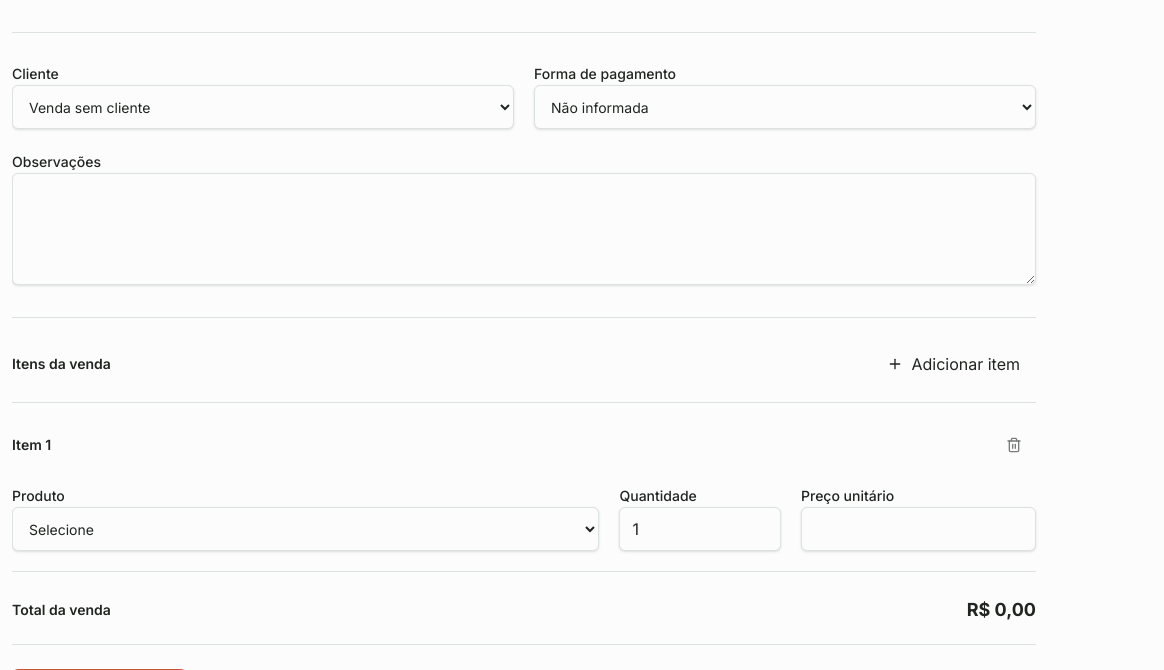
Test: CreateSaleForm › suggests the registered price and calculates the cart total
The image size is (1164, 670).
Select "PERF-1 · Perfume Floral" in the dropdown named "Produto do item 1" at [306, 529], box [12,507,600,551]
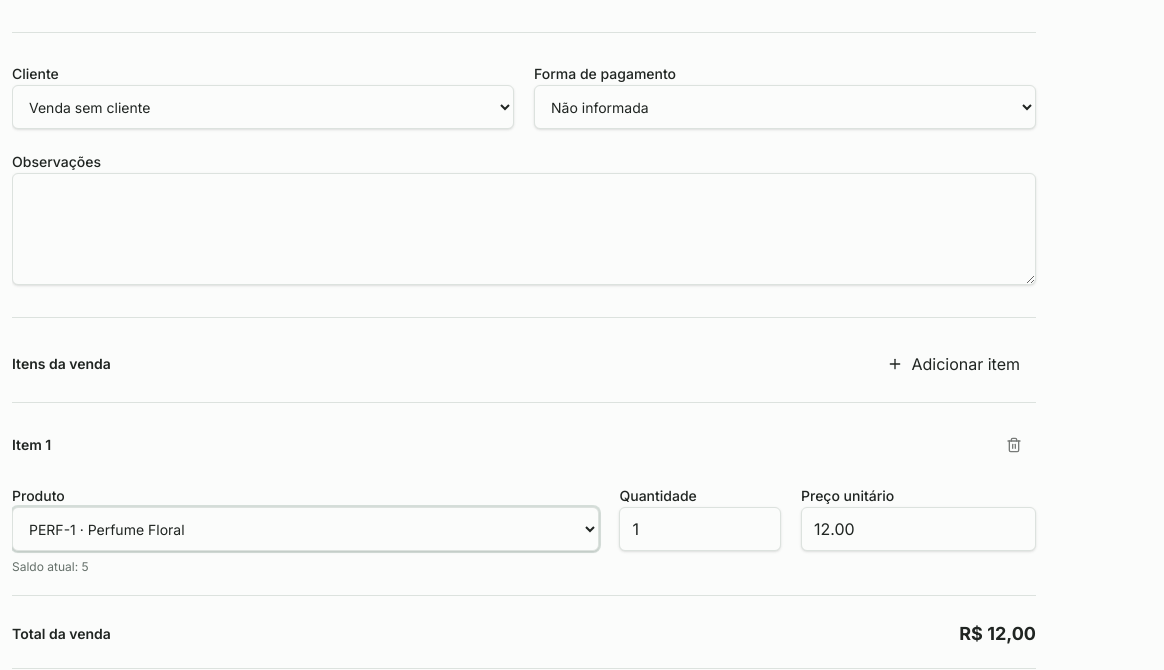
Replace the text in the number field named "Quantidade do item 1" with "2" at [700, 529], box [620,507,781,551]
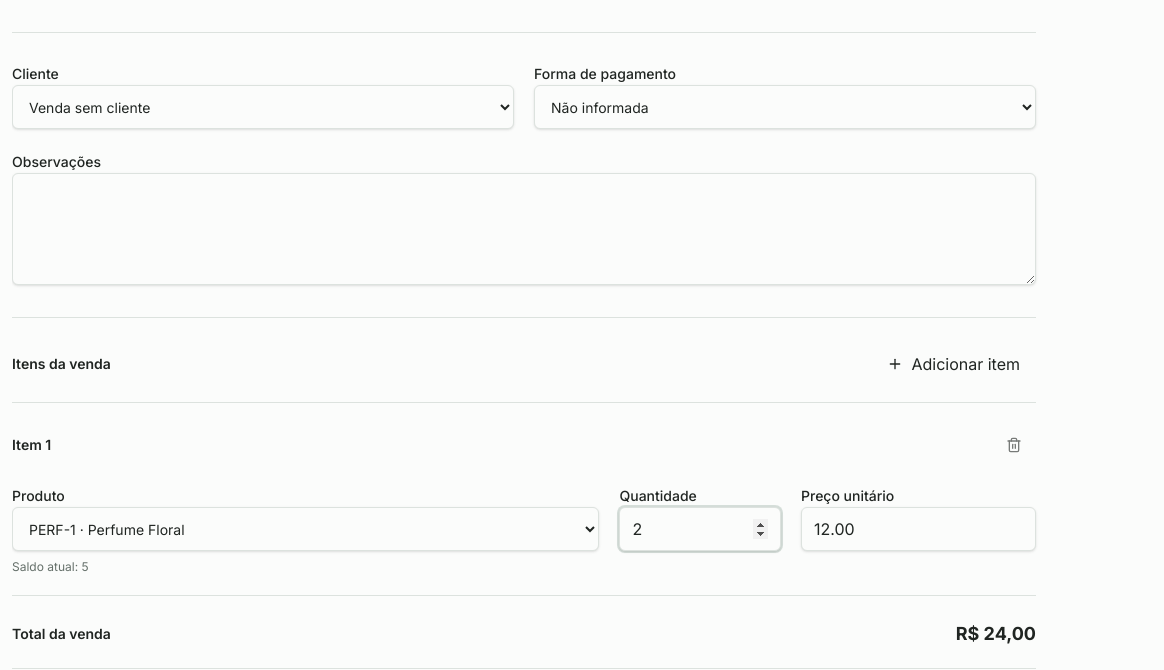
Check: the field named "Preço unitário do item 1" holds "12.00", box [801,507,1036,551]
Check: the text "Saldo atual: 5" is shown, box [12,559,89,574]
Check: the text "R$ 24,00" is shown, box [956,620,1036,648]
